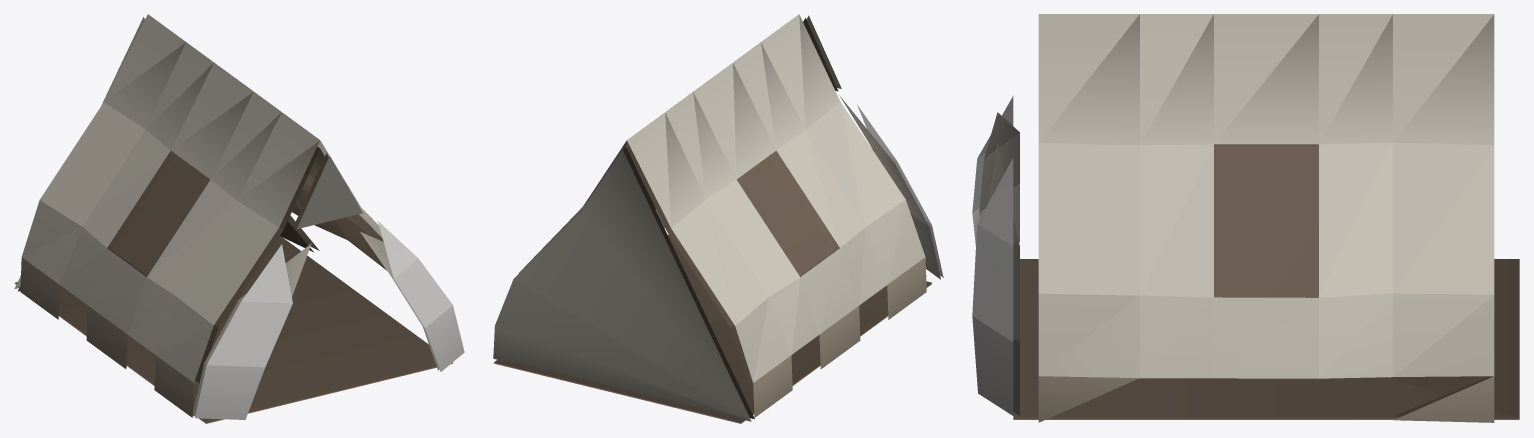
File: tent.lod.glb
3 renders of one model, left to right at view 1: azimuth 30°, elevation 25°; view 2: azimuth 150°, elevation 25°; view 3: azimuth 270°, elevation 25°, orthographic. The views are drawn at different scales.
Parts seen in each view (by area): view 1: tent; view 2: tent; view 3: tent.
Part boxes in pixels (left/top/right/bottom): tent: left=14, top=14, right=464, bottom=423; tent: left=493, top=14, right=943, bottom=423; tent: left=972, top=14, right=1519, bottom=422.
Bounding box in the file's own units: 3 × 2.59 × 3.93.
